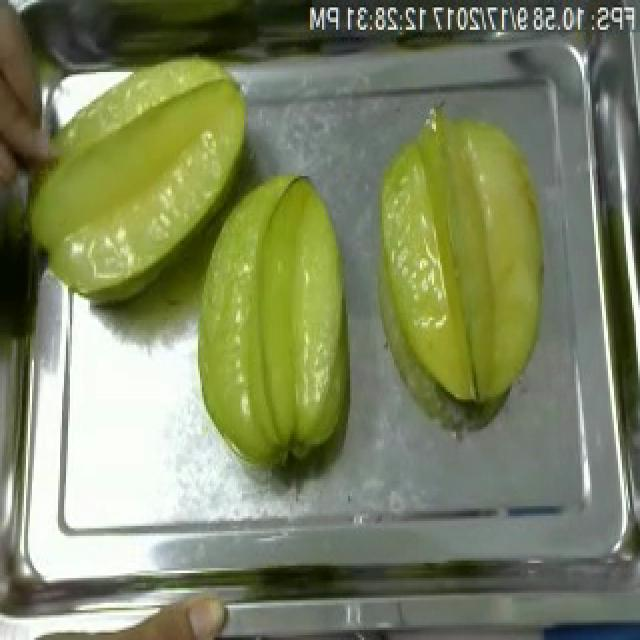fruit: (12, 42, 266, 305), (368, 94, 564, 422), (186, 162, 366, 476)
